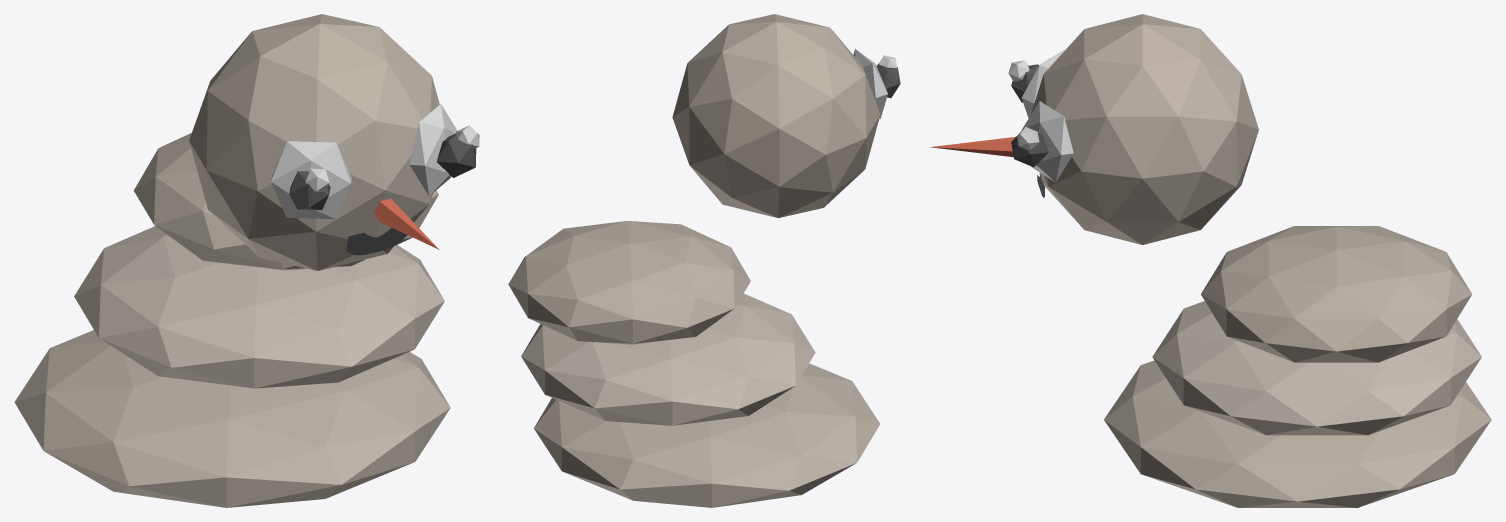
Rendered from hemidactylus-brookii.glb.
3 views of the same model, side by side, from view 1: azimuth 30°, elevation 25°; view 2: azimuth 150°, elevation 25°; view 3: azimuth 270°, elevation 25° (orthographic). The views are drawn at different scales.
Parts seen in each view (by area): view 1: coil0, head, coil1, coil2, face-eye-r, face-eye-l, face-pupil-l, tongue, face-smile, face-pupil-r; view 2: head, coil0, coil1, coil2, face-eye-r, face-pupil-r; view 3: head, coil2, coil0, coil1, face-eye-l, tongue, face-eye-r, face-pupil-l.
Part boxes in pixels (x1=…): coil0: x1=14, y1=330, x2=450, y2=507; head: x1=189, y1=14, x2=439, y2=270; coil1: x1=74, y1=226, x2=444, y2=388; coil2: x1=133, y1=133, x2=438, y2=270; face-eye-r: x1=271, y1=141, x2=351, y2=219; face-eye-l: x1=409, y1=104, x2=457, y2=196; face-pupil-l: x1=436, y1=133, x2=476, y2=177; tongue: x1=374, y1=198, x2=439, y2=249; face-smile: x1=346, y1=227, x2=407, y2=255; face-pupil-r: x1=289, y1=171, x2=330, y2=210; head: x1=672, y1=14, x2=880, y2=218; coil0: x1=534, y1=363, x2=879, y2=507; coil1: x1=521, y1=293, x2=815, y2=425; coil2: x1=508, y1=221, x2=750, y2=344; face-eye-r: x1=853, y1=49, x2=887, y2=118; face-pupil-r: x1=876, y1=63, x2=900, y2=98; head: x1=1031, y1=14, x2=1258, y2=244; coil2: x1=1201, y1=226, x2=1472, y2=362; coil0: x1=1104, y1=360, x2=1491, y2=507; coil1: x1=1152, y1=301, x2=1481, y2=435; face-eye-l: x1=1021, y1=101, x2=1073, y2=182; tongue: x1=929, y1=137, x2=1015, y2=157; face-eye-r: x1=1021, y1=50, x2=1064, y2=118; face-pupil-l: x1=1011, y1=126, x2=1048, y2=167.
Size of the model in its own units: 0.42 by 0.5 by 0.58.
